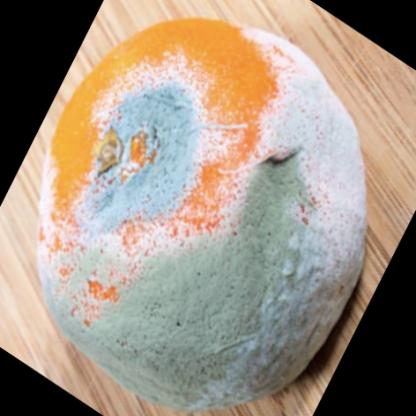rotten: (36, 19, 367, 414)
